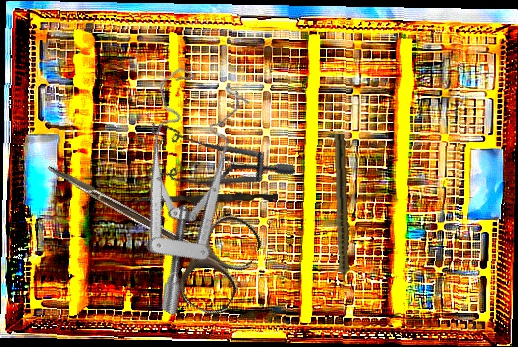Handpiece: (331, 133, 351, 291)
Iris Scissors: (22, 128, 268, 321)
Pusher: (134, 190, 279, 208)
Speculum: (61, 55, 292, 318), (131, 82, 296, 222)
